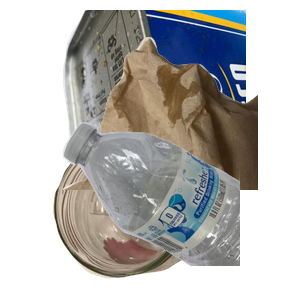glass: (50, 131, 252, 300)
metal: (60, 10, 300, 190)
plastic: (60, 120, 300, 300)
trash: (60, 35, 300, 215)
